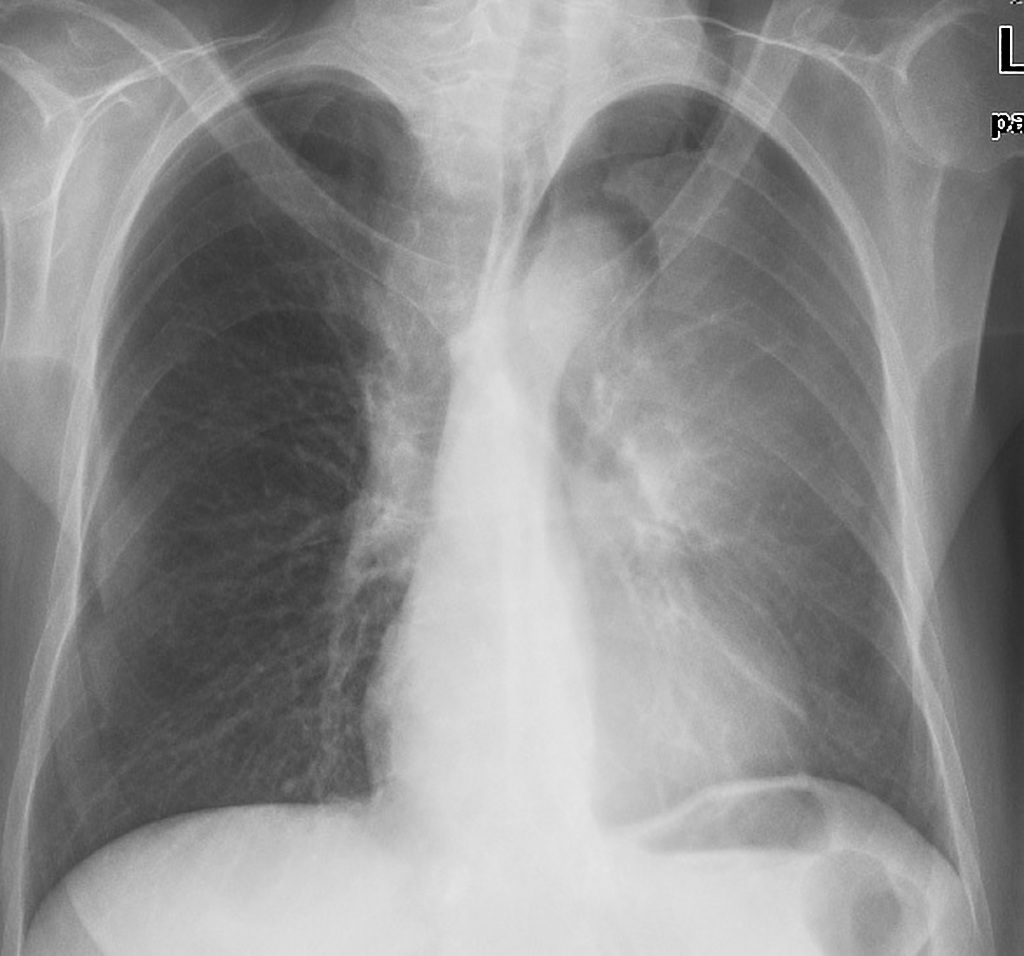cancer: (576, 200, 874, 823)
